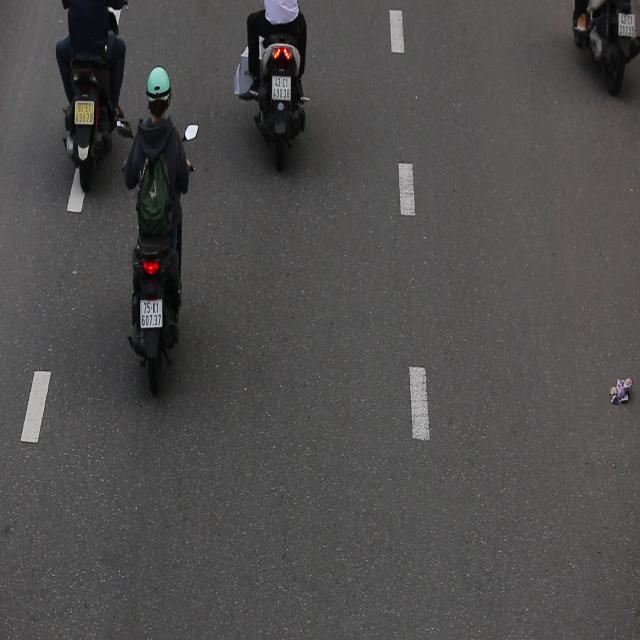motorbike: (114, 54, 202, 404)
